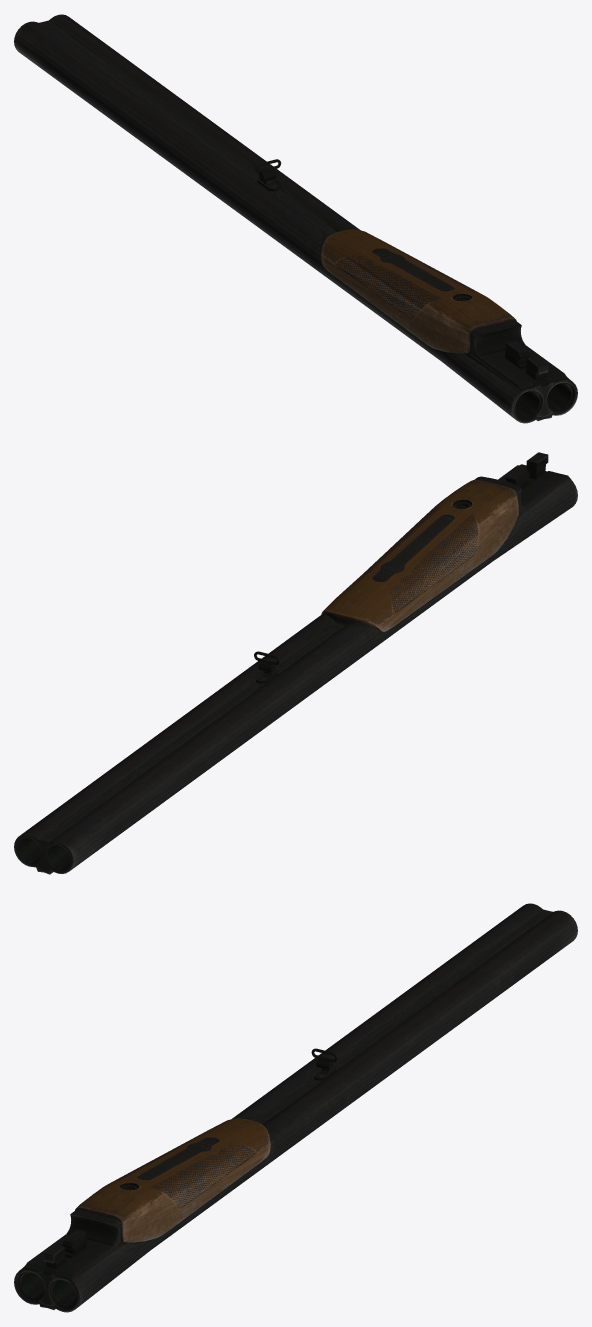
3 renders of one model, top to bottom at view 1: azimuth 30°, elevation 25°; view 2: azimuth 150°, elevation 25°; view 3: azimuth 330°, elevation 25°, orthographic.
Visible parts, largest first — view 1: TW_611a30addbdd8440277441dc_PZ_Import; view 2: TW_611a30addbdd8440277441dc_PZ_Import; view 3: TW_611a30addbdd8440277441dc_PZ_Import.
Boxes of the visible parts, box(x1,y1,x2,y2) form: TW_611a30addbdd8440277441dc_PZ_Import: box(14, 14, 577, 423); TW_611a30addbdd8440277441dc_PZ_Import: box(14, 452, 577, 874); TW_611a30addbdd8440277441dc_PZ_Import: box(14, 903, 577, 1312).
Bounding box in the file's own units: 0.033 × 0.4334 × 0.0313.
Materials: 1 (1 with a texture image).
